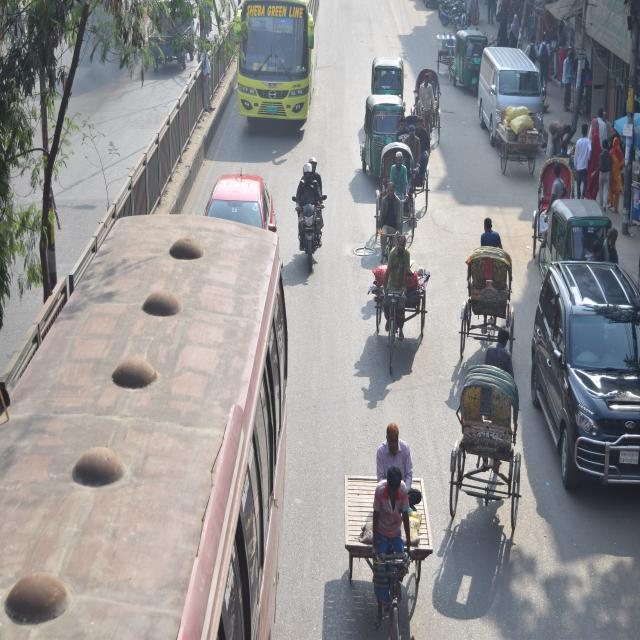bus: (0, 214, 289, 640), (232, 0, 317, 130)
car: (531, 255, 640, 495), (203, 161, 276, 251)
microbus: (474, 39, 544, 155)
motorbike: (288, 170, 336, 278)
